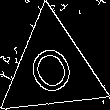O_SE: (22, 36, 82, 103)
